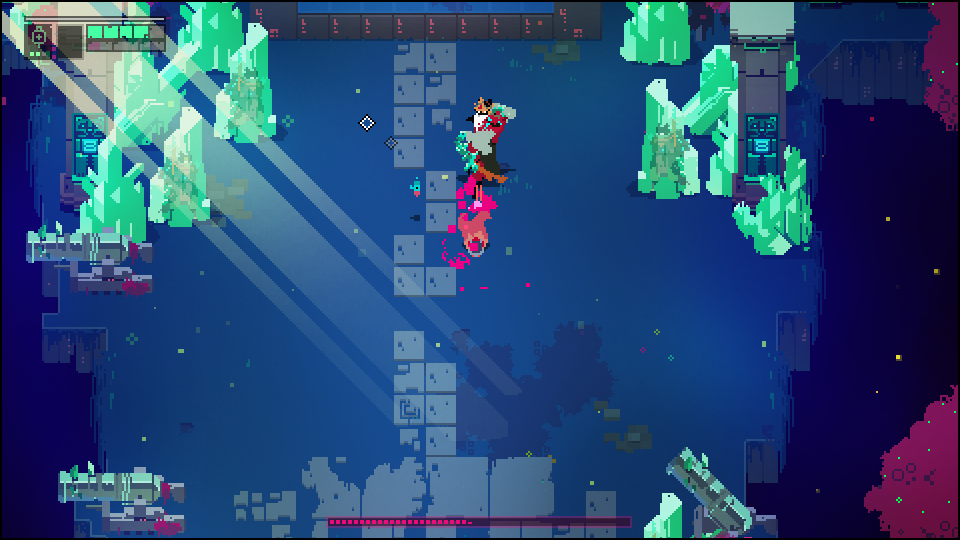hanged_man: (452, 98, 518, 182)
player: (457, 207, 494, 260)
